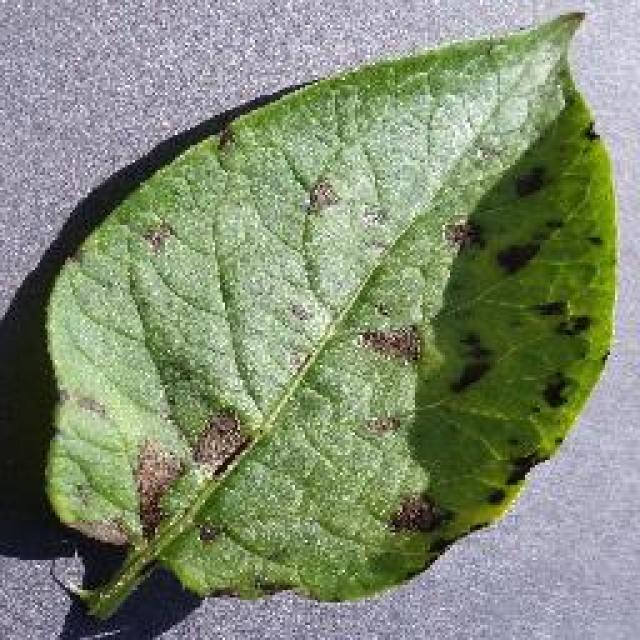early_blight: (35, 8, 623, 620)
